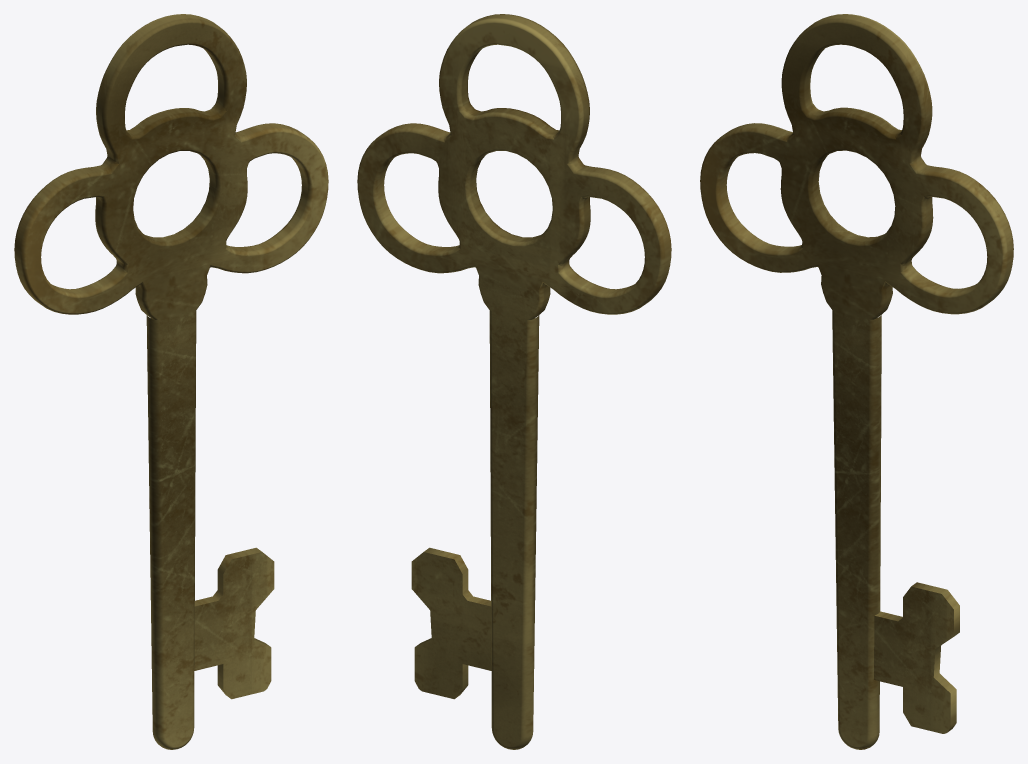
Rendered from keys.glb.
3 renders of one model, left to right at view 1: azimuth 30°, elevation 25°; view 2: azimuth 150°, elevation 25°; view 3: azimuth 330°, elevation 25°, orthographic.
Visible parts, largest first — view 1: I2M_34d2a3ed93712c1b9954320c50c523e8.001 (×2); view 2: I2M_34d2a3ed93712c1b9954320c50c523e8.001 (×2); view 3: I2M_34d2a3ed93712c1b9954320c50c523e8.001 (×2).
Part boxes in pixels (box(x1,y1,x2,y2)): I2M_34d2a3ed93712c1b9954320c50c523e8.001 (×2): box(14, 14, 328, 749); I2M_34d2a3ed93712c1b9954320c50c523e8.001 (×2): box(357, 14, 671, 749); I2M_34d2a3ed93712c1b9954320c50c523e8.001 (×2): box(700, 14, 1013, 749).
Size of the model in its own units: 0.2916 by 0.6626 by 0.017.
2 materials, 2 textured.
